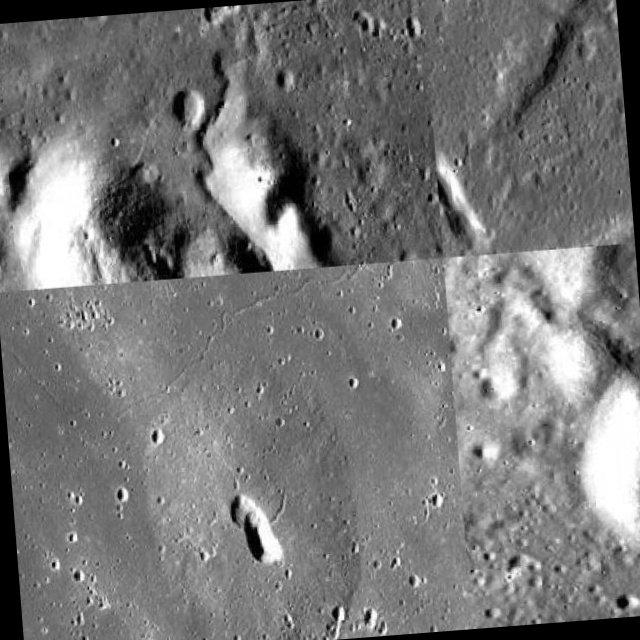crater: (0, 268, 446, 497), (526, 282, 639, 589), (198, 36, 251, 230), (448, 40, 490, 262)
